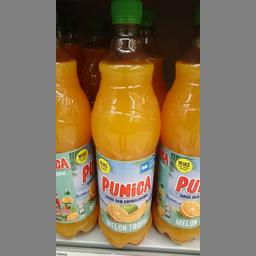juice: (89, 1, 160, 248), (154, 22, 196, 244), (56, 34, 91, 236)
